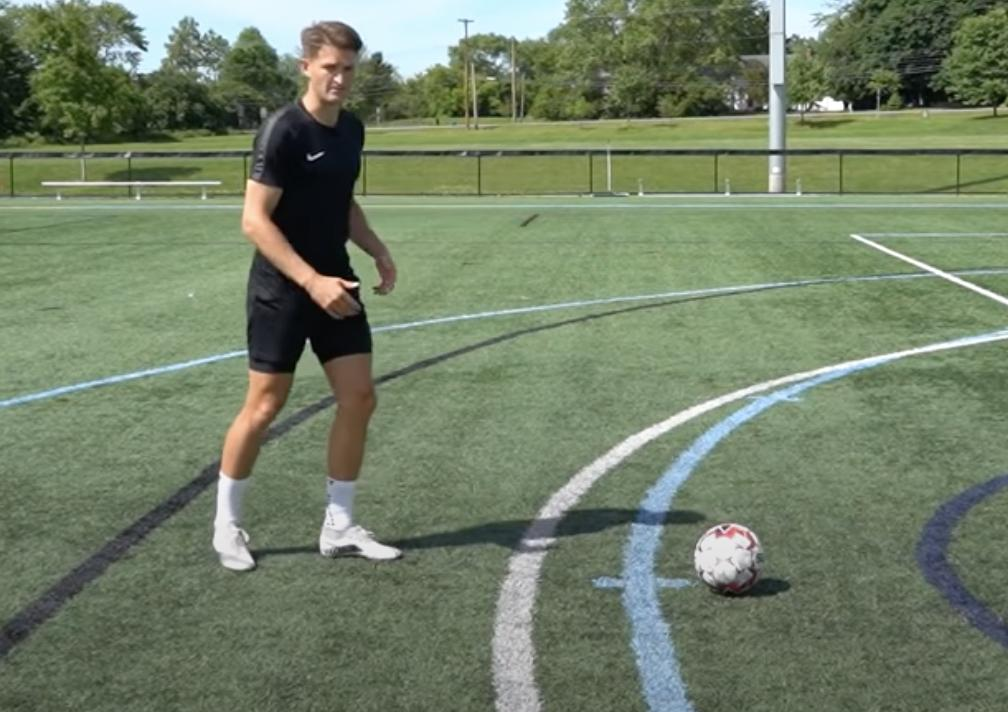ball: (692, 521, 763, 592)
foot: (314, 519, 410, 562), (208, 513, 259, 573)
person: (206, 22, 406, 567)
